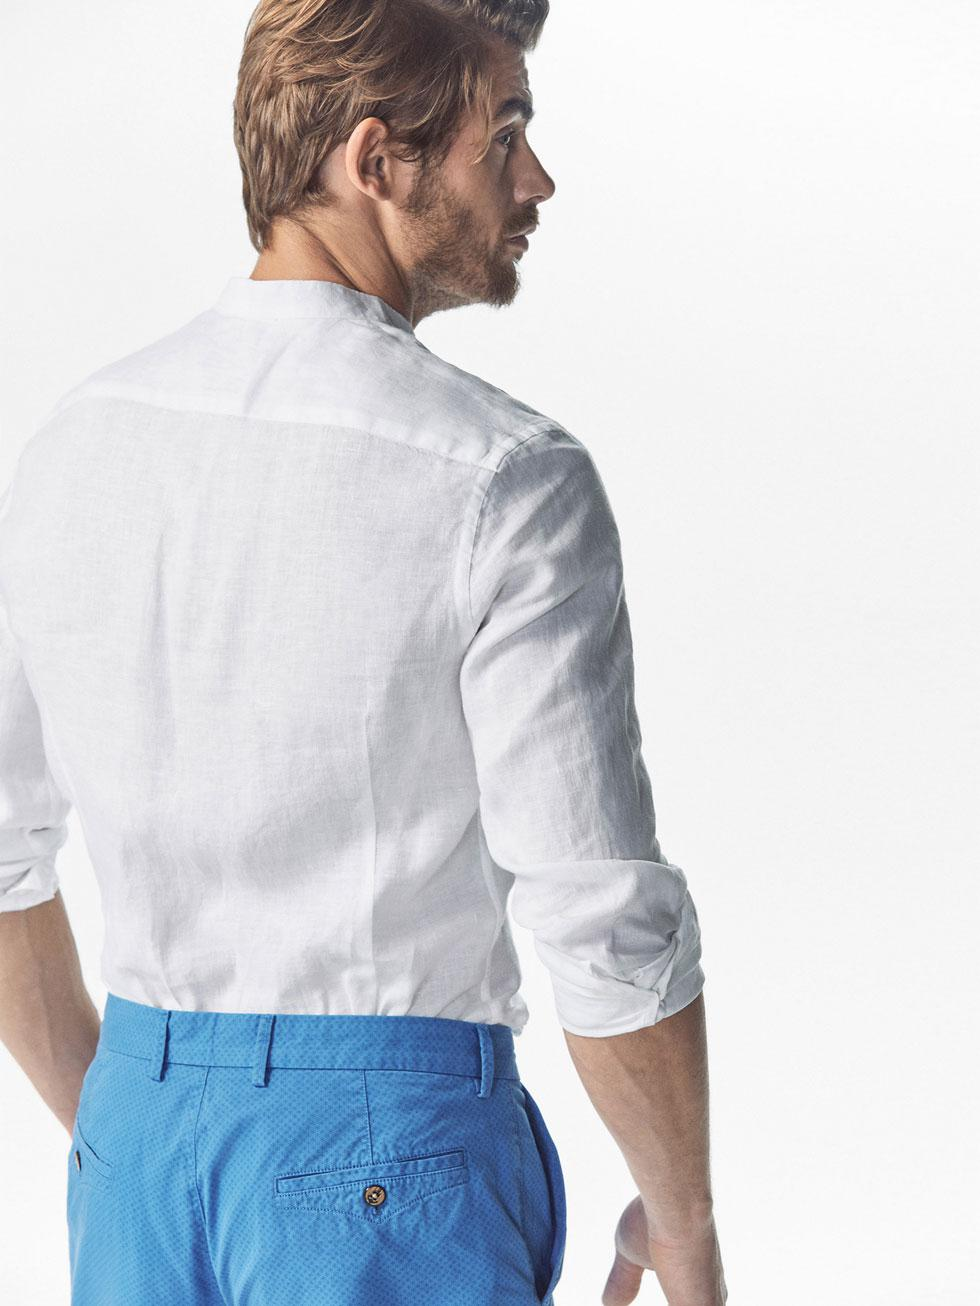teeshirt: (1, 283, 705, 1302)
